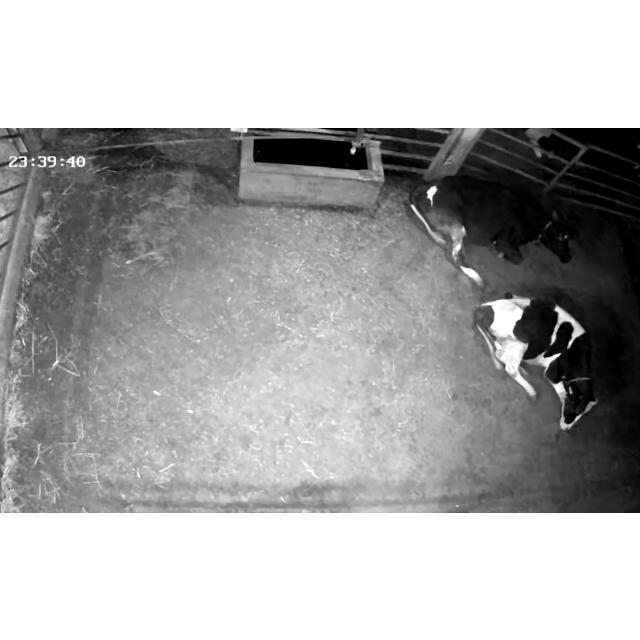lay: (402, 167, 580, 289), (468, 292, 610, 440)
